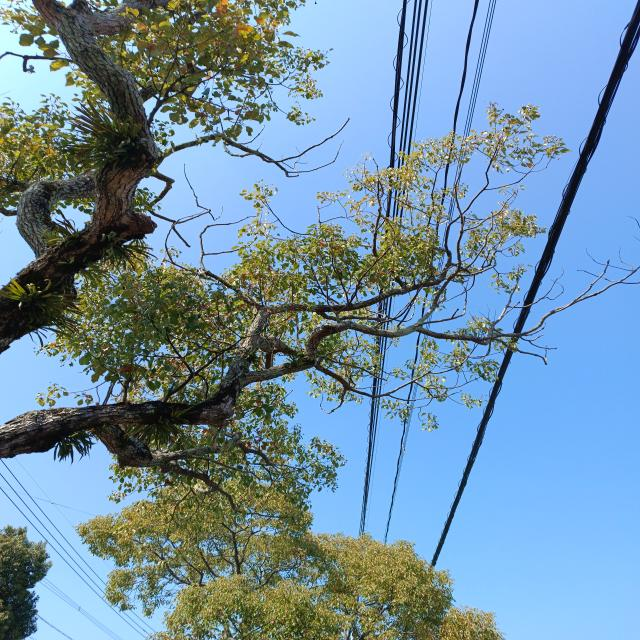Branch: (0, 253, 452, 457), (242, 322, 423, 386), (151, 457, 247, 514), (155, 437, 275, 465), (315, 364, 352, 390)
Twig: (415, 171, 463, 325), (445, 158, 492, 255), (419, 310, 555, 342), (349, 366, 457, 399), (423, 281, 467, 324)
